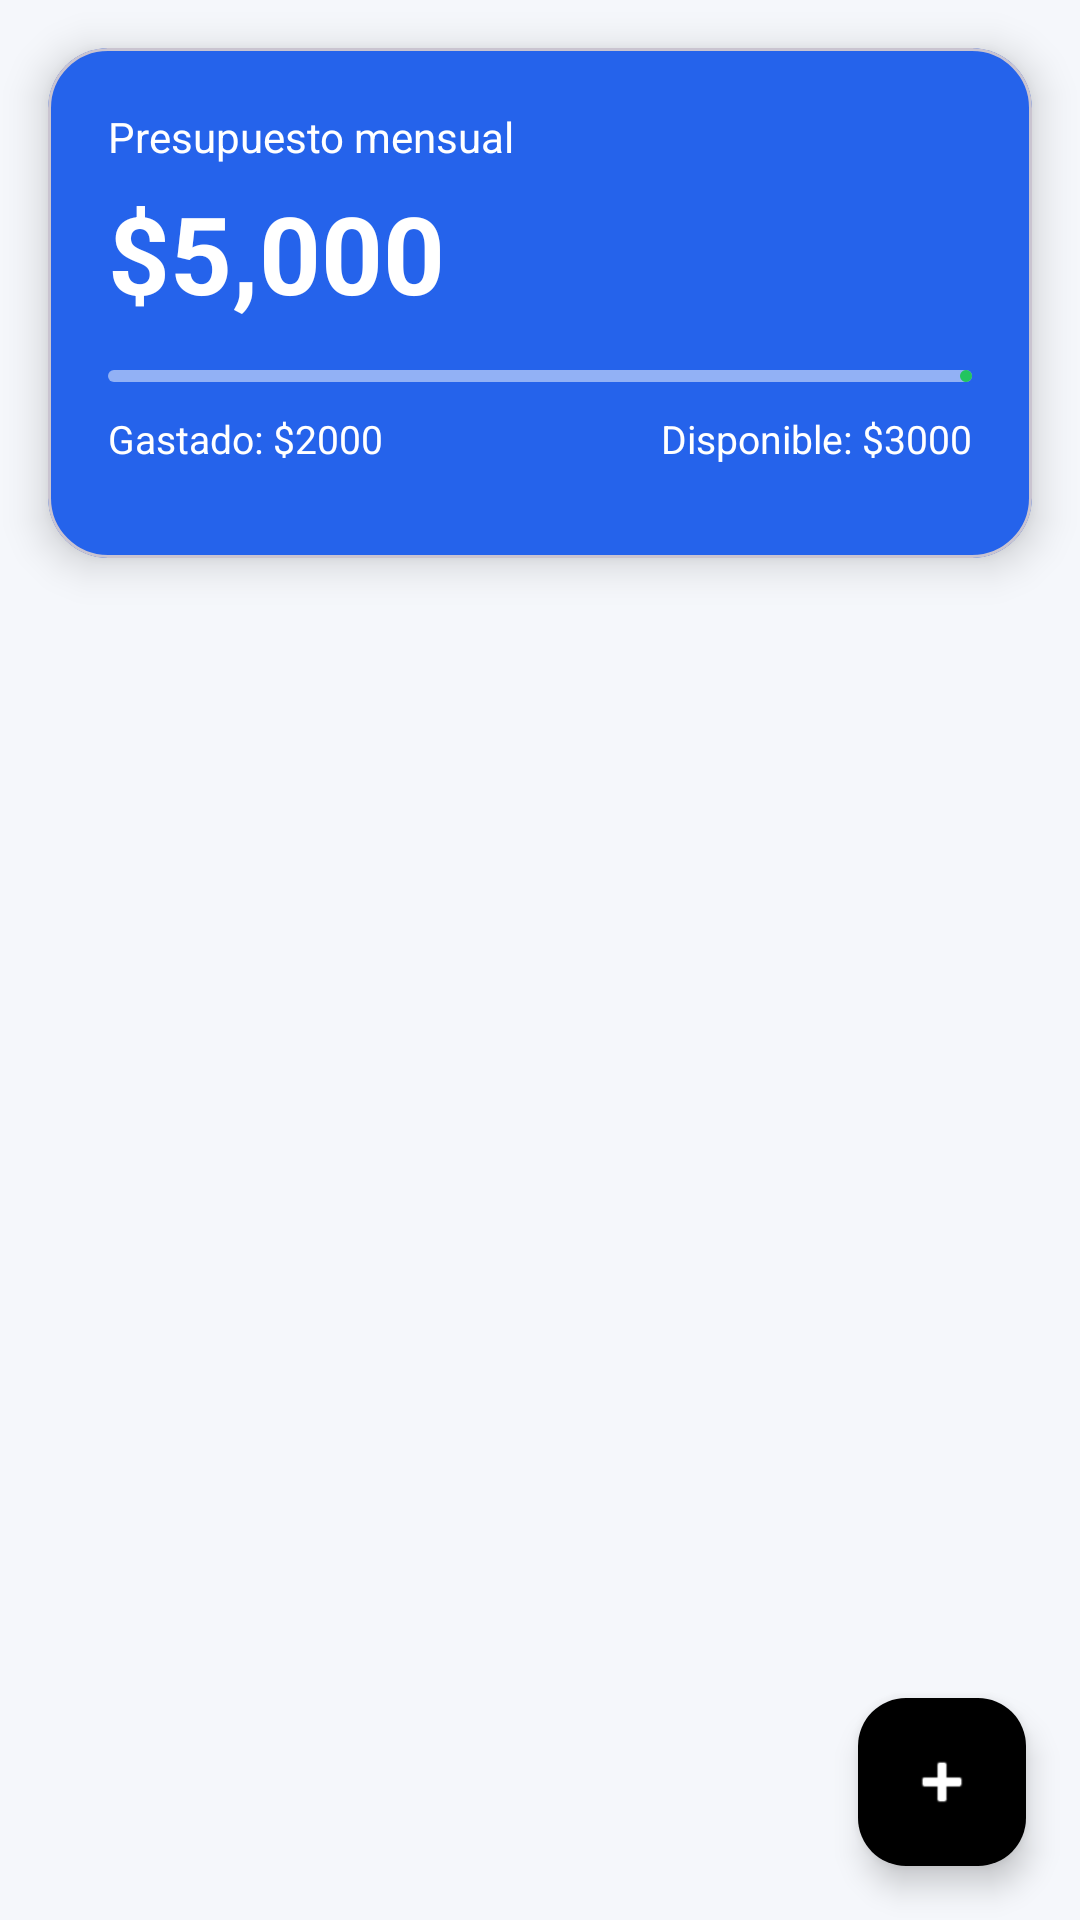

Icons on this 1080×1920 Android screen, each with its box as (x1, y1, x2, y2):
add: (858, 1698, 1026, 1866)
